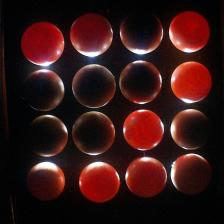fertile: (71, 111, 116, 156), (71, 64, 116, 108), (120, 10, 164, 54), (119, 60, 162, 104), (171, 154, 214, 198), (25, 114, 68, 156), (23, 69, 65, 112), (170, 109, 212, 150), (26, 161, 66, 201)
infertile: (20, 21, 65, 66), (70, 12, 114, 57), (170, 60, 213, 104), (123, 109, 165, 152), (78, 161, 120, 203), (169, 10, 210, 53), (125, 156, 167, 197)
